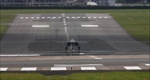maybay_muctieu: (55, 33, 89, 52)
